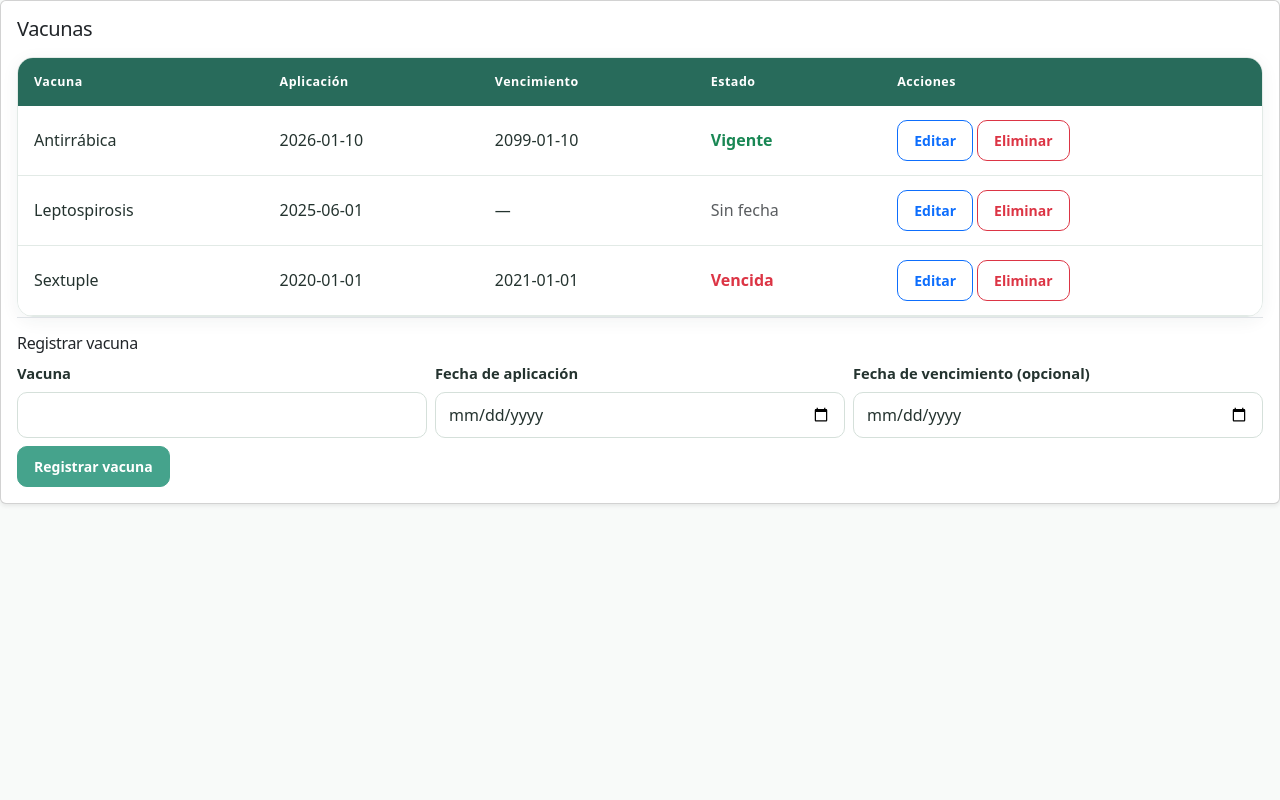
Test case: VacunasMascota › si el backend rechaza la vacuna, muestra su mensaje y no la agrega
Type "Rabia" into the field labelled "Vacuna" at (222,415), box x1=17 y1=392 x2=427 y2=438
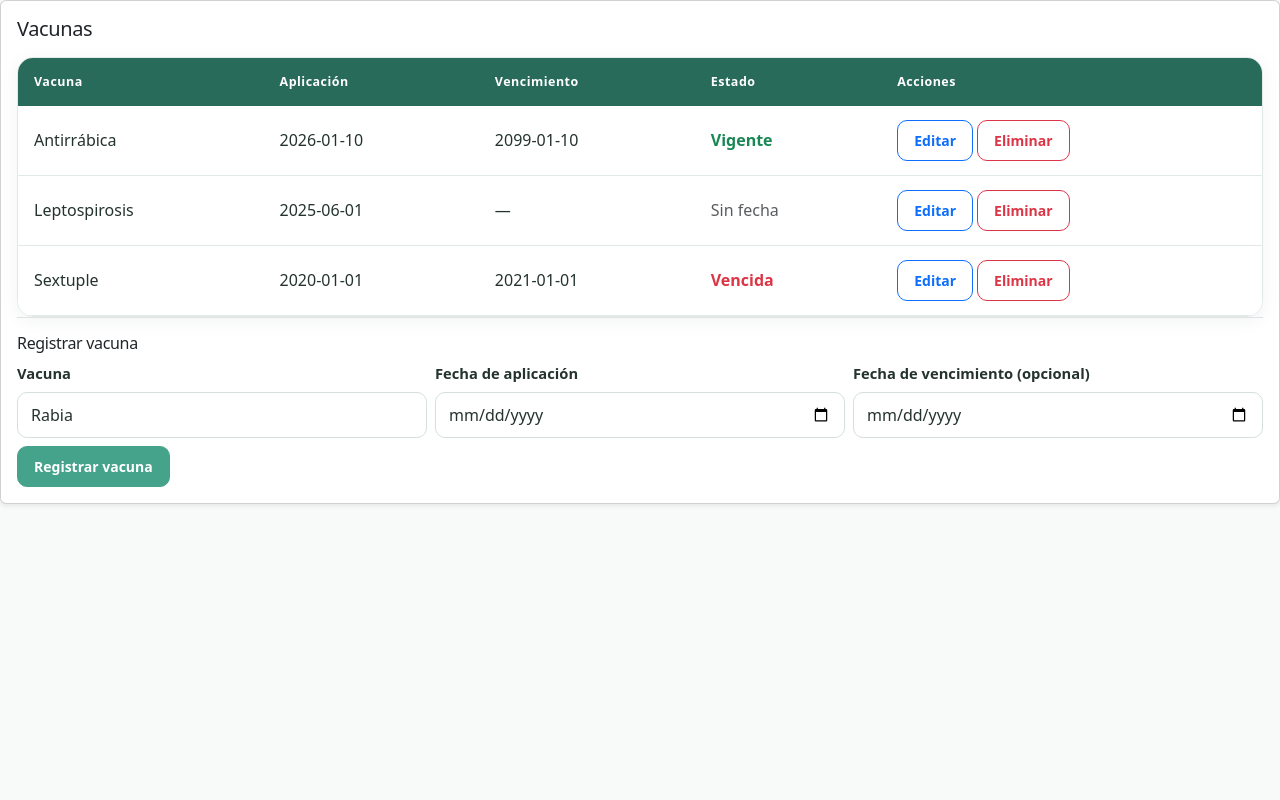
Type "2026-11-10" into the date field labelled "Fecha de aplicación" at (640,415), box x1=435 y1=392 x2=845 y2=438
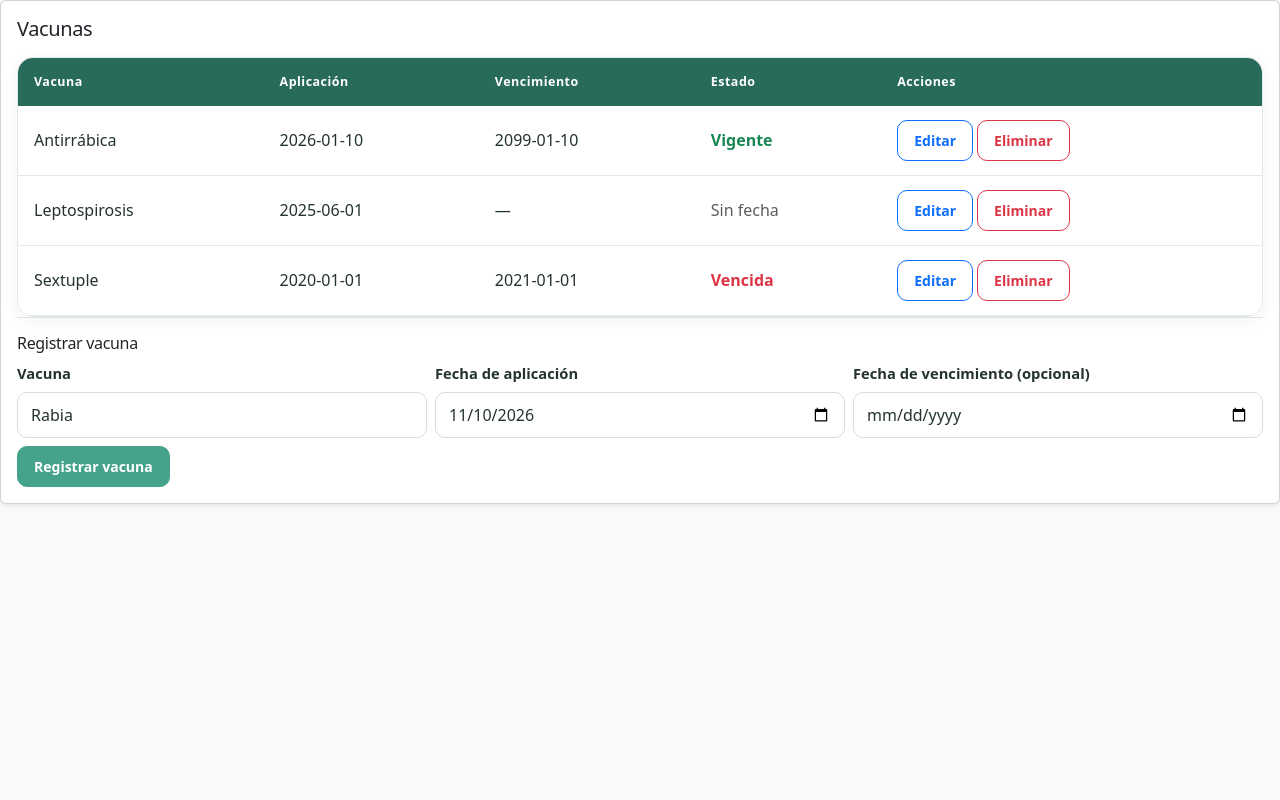
Click the button "Registrar vacuna" at (93,466), box x1=17 y1=446 x2=170 y2=487
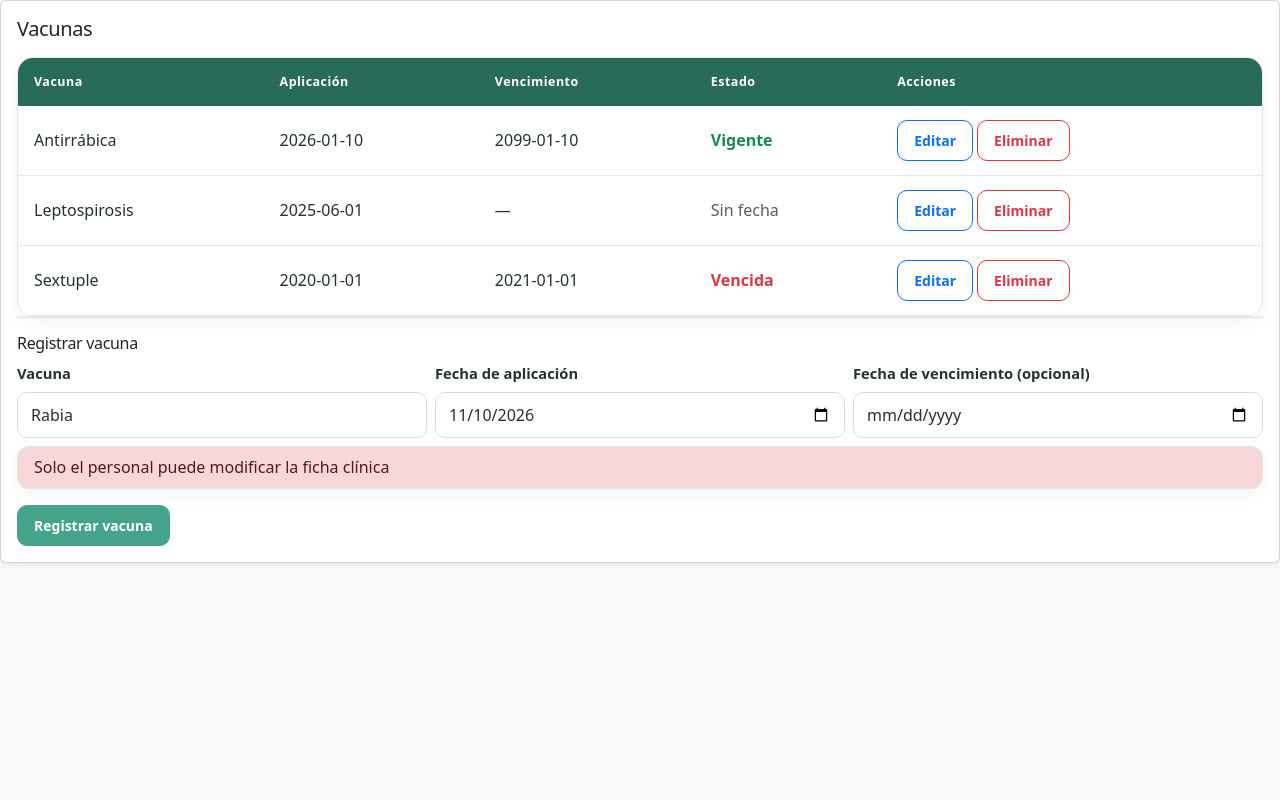
Now the message shows "Solo el personal", box x1=34 y1=456 x2=389 y2=478
